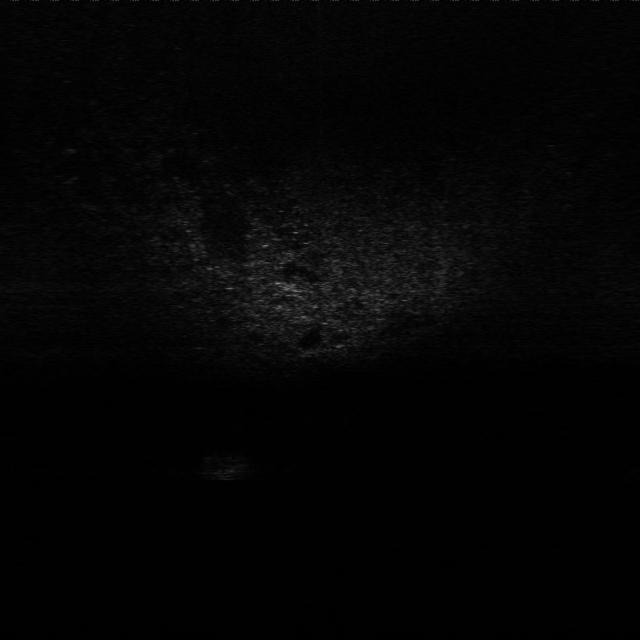circle cage: (201, 446, 253, 482)
